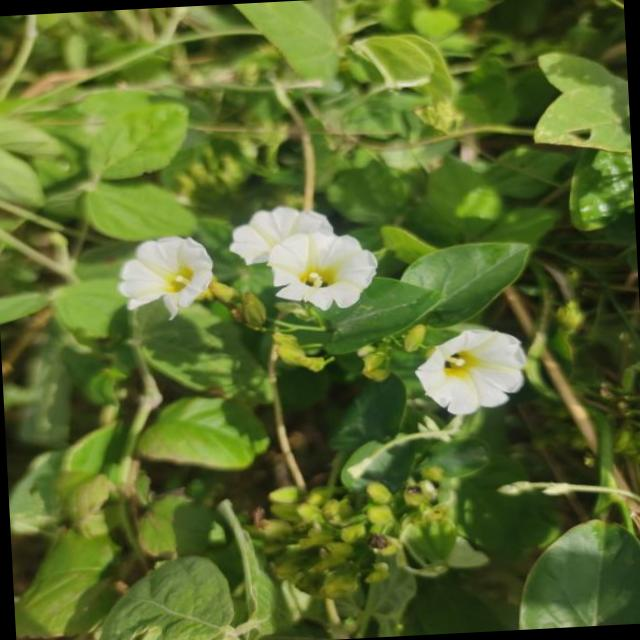ipomoea: (409, 324, 533, 420), (261, 227, 384, 317), (111, 232, 221, 326), (223, 200, 339, 270)
